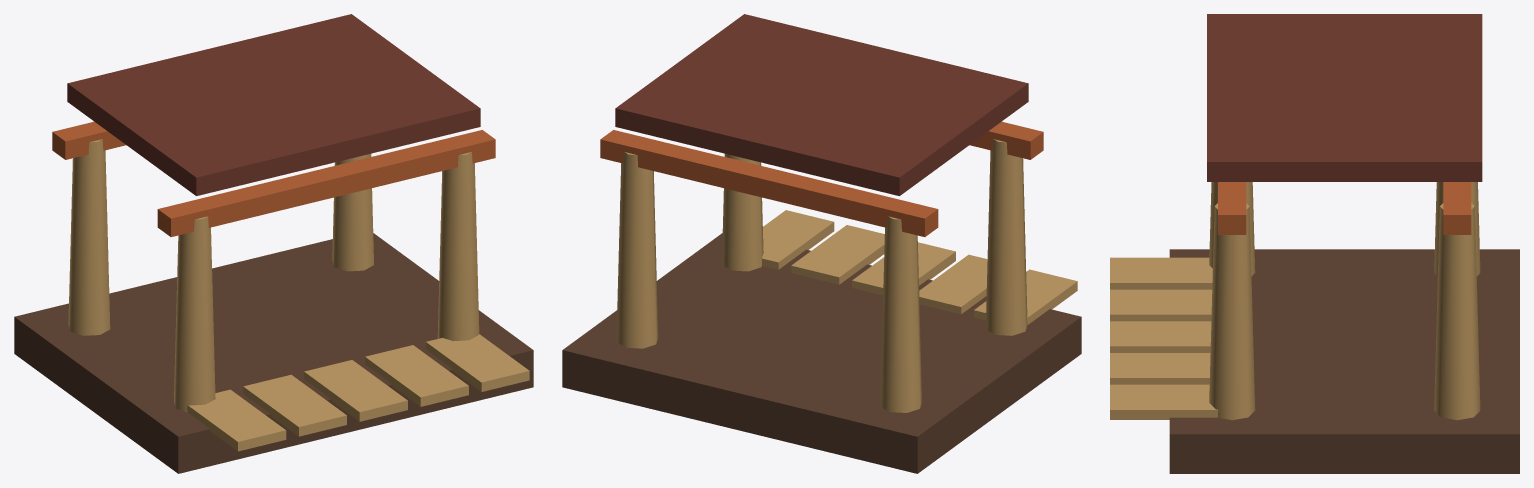
Rendered from rope_bridge_station.glb.
3 renders of one model, left to right at view 1: azimuth 30°, elevation 25°; view 2: azimuth 150°, elevation 25°; view 3: azimuth 270°, elevation 25°, orthographic. The views are drawn at different scales.
Visible parts, largest first — view 1: platform, canopy, crossbeam_18, tower_0_0, tower_0_1, tower_1_1, plank_12, plank_0, plank_-12, plank_24, plank_-24, tower_1_0 (+1 smaller); view 2: platform, canopy, crossbeam_-18, tower_0_0, tower_0_1, tower_1_0, plank_12, tower_1_1, plank_24, plank_-12, plank_-24, plank_0 (+1 smaller); view 3: platform, canopy, tower_1_0, tower_1_1, plank_24, plank_-12, plank_-24, plank_0, plank_12, crossbeam_-18, crossbeam_18, tower_0_0 (+1 smaller).
Part boxes in pixels (x1=…): platform: x1=14, y1=233, x2=533, y2=473; canopy: x1=67, y1=14, x2=480, y2=195; crossbeam_18: x1=157, y1=130, x2=495, y2=236; tower_0_0: x1=68, y1=139, x2=110, y2=335; tower_0_1: x1=174, y1=216, x2=215, y2=412; tower_1_1: x1=437, y1=152, x2=479, y2=341; plank_12: x1=365, y1=345, x2=468, y2=406; plank_0: x1=304, y1=360, x2=407, y2=421; plank_-12: x1=243, y1=374, x2=346, y2=436; plank_24: x1=426, y1=334, x2=529, y2=391; plank_-24: x1=187, y1=389, x2=286, y2=451; tower_1_0: x1=332, y1=153, x2=373, y2=271; platform: x1=562, y1=233, x2=1081, y2=473; canopy: x1=615, y1=14, x2=1028, y2=195; crossbeam_-18: x1=600, y1=130, x2=938, y2=236; tower_0_0: x1=880, y1=216, x2=921, y2=412; tower_0_1: x1=985, y1=139, x2=1027, y2=335; tower_1_0: x1=616, y1=152, x2=658, y2=348; plank_12: x1=791, y1=225, x2=884, y2=284; tower_1_1: x1=722, y1=153, x2=763, y2=271; plank_24: x1=761, y1=210, x2=834, y2=269; plank_-12: x1=919, y1=254, x2=987, y2=314; plank_-24: x1=974, y1=269, x2=1077, y2=324; plank_0: x1=852, y1=242, x2=955, y2=295; platform: x1=1169, y1=249, x2=1519, y2=473; canopy: x1=1207, y1=14, x2=1482, y2=181; tower_1_0: x1=1434, y1=203, x2=1480, y2=420; tower_1_1: x1=1209, y1=203, x2=1255, y2=420; plank_24: x1=1110, y1=384, x2=1218, y2=419; plank_-12: x1=1110, y1=289, x2=1212, y2=321; plank_-24: x1=1110, y1=257, x2=1212, y2=289; plank_0: x1=1110, y1=321, x2=1211, y2=352; plank_12: x1=1110, y1=353, x2=1210, y2=384; crossbeam_-18: x1=1443, y1=182, x2=1471, y2=234; crossbeam_18: x1=1218, y1=182, x2=1246, y2=234; tower_0_0: x1=1434, y1=182, x2=1480, y2=276.
Size of the model in its own units: 7 by 5.17 by 6.55.
